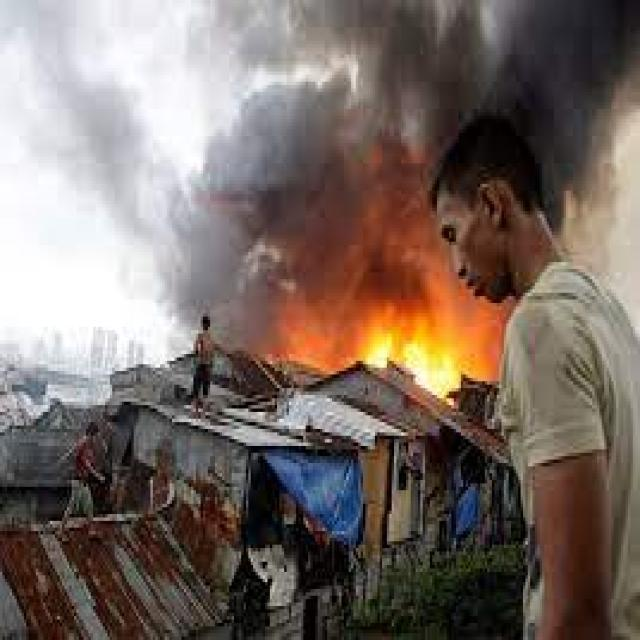Fire: (366, 292, 464, 396)
Smoke: (180, 12, 373, 348), (500, 0, 632, 160), (382, 6, 479, 111)
